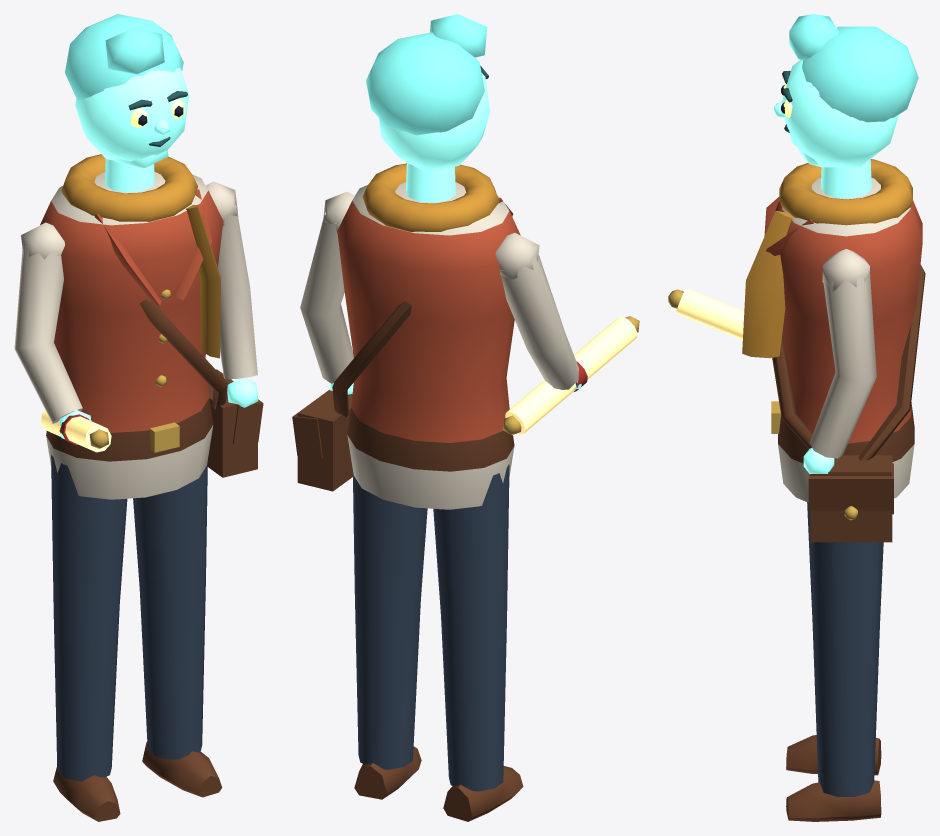
File: npc_soul_citizen.glb
3 renders of one model, left to right at view 1: azimuth 30°, elevation 25°; view 2: azimuth 150°, elevation 25°; view 3: azimuth 270°, elevation 25°, orthographic.
Visible parts, largest first — view 1: npc_soul_citizen; view 2: npc_soul_citizen; view 3: npc_soul_citizen.
Boxes of the visible parts, box(x1,y1,x2,y2) form: npc_soul_citizen: box(14, 14, 263, 821); npc_soul_citizen: box(292, 14, 639, 821); npc_soul_citizen: box(668, 14, 925, 821).
Size of the model in its own units: 0.5786 by 1.72 by 0.5179.
